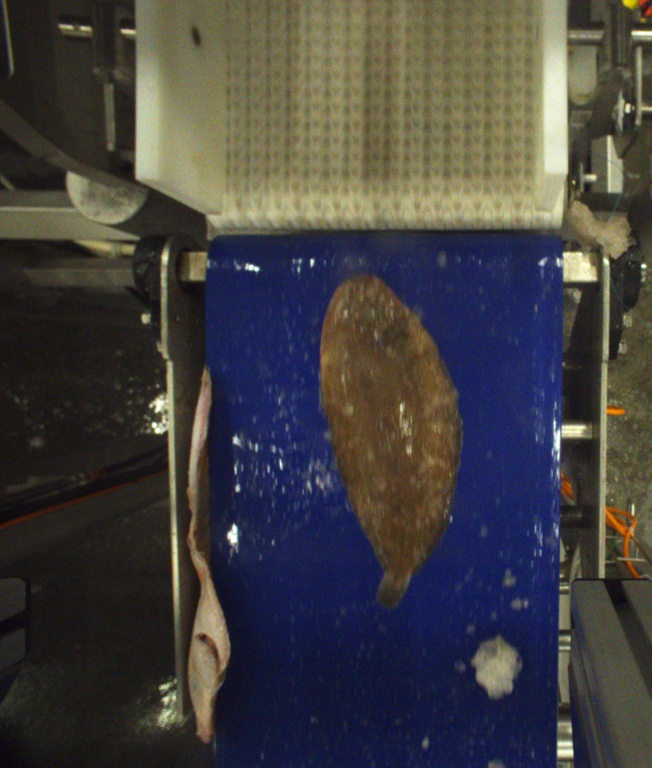SOL: (318, 275, 465, 607)
